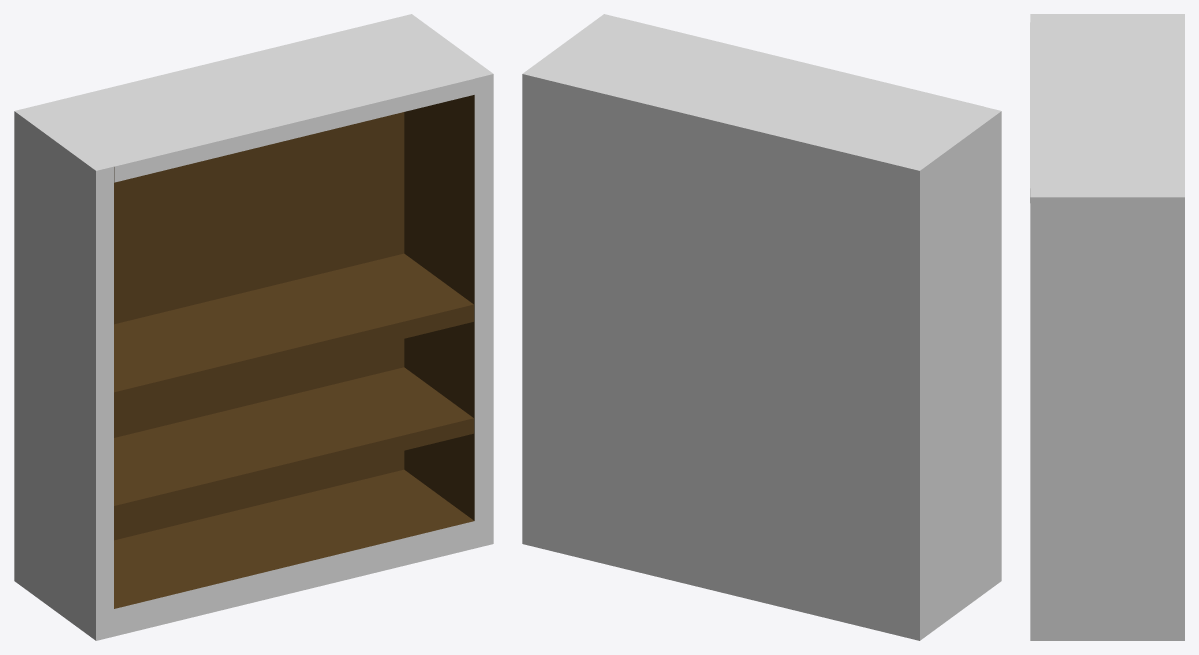
The model's file is Armario.fbx.
3 renders of one model, left to right at view 1: azimuth 30°, elevation 25°; view 2: azimuth 150°, elevation 25°; view 3: azimuth 270°, elevation 25°, orthographic. The views are drawn at different scales.
Visible parts, largest first — view 1: Cube; view 2: Cube; view 3: Cube.
Boxes of the visible parts, bbox=[...] form: Cube: bbox=[14, 14, 493, 640]; Cube: bbox=[522, 14, 1001, 640]; Cube: bbox=[1030, 14, 1184, 640].
Size of the model in its own units: 561 by 633 by 200.
